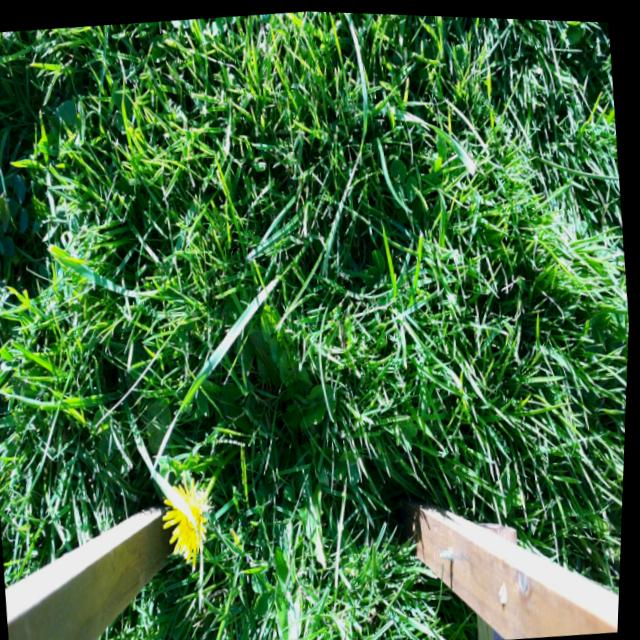base: (230, 433, 249, 465)
flower: (164, 472, 220, 557)
